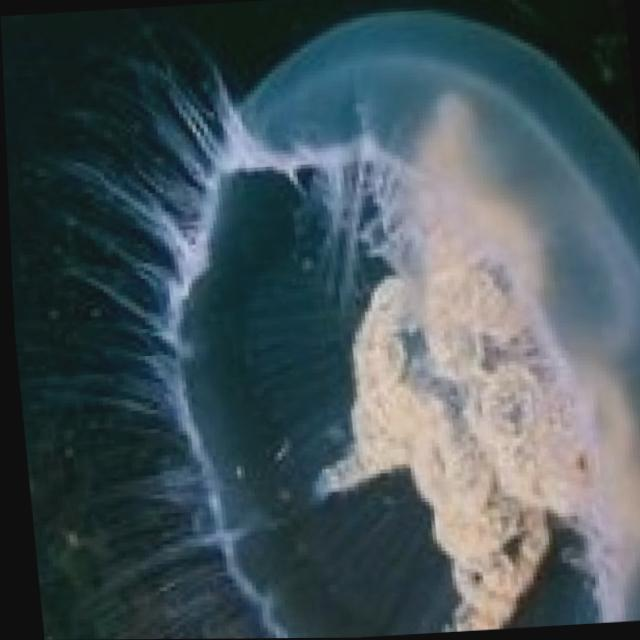Moon-jellyfish: (15, 0, 640, 640)
